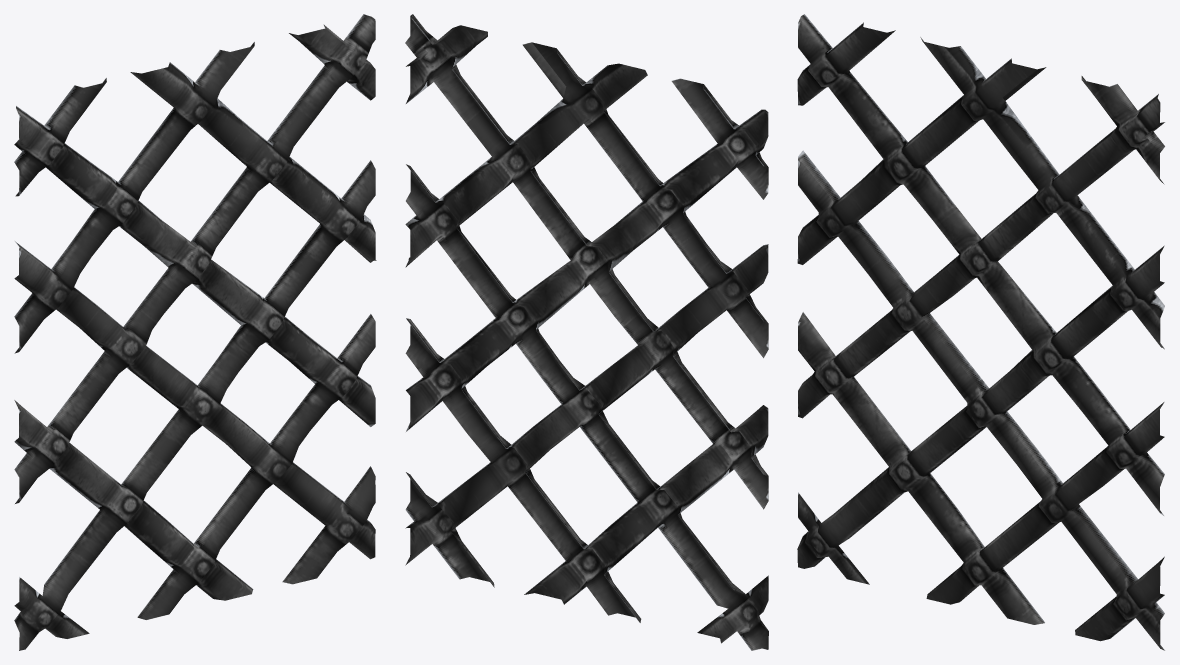
File: Glass 3 Diagonal No Glass.FBX
3 views of the same model, side by side, from view 1: azimuth 30°, elevation 25°; view 2: azimuth 150°, elevation 25°; view 3: azimuth 330°, elevation 25° (orthographic).
Parts seen in each view (by area): view 1: Glass 3 Diagonal No Glass; view 2: Glass 3 Diagonal No Glass; view 3: Glass 3 Diagonal No Glass.
Boxes of the visible parts, x1,y1,x2,y2 form: Glass 3 Diagonal No Glass: (14, 14, 376, 650); Glass 3 Diagonal No Glass: (405, 14, 768, 650); Glass 3 Diagonal No Glass: (797, 14, 1164, 650).
Size of the model in its own units: 43.71 by 1.96 by 63.91.
1 material, 1 textured.
